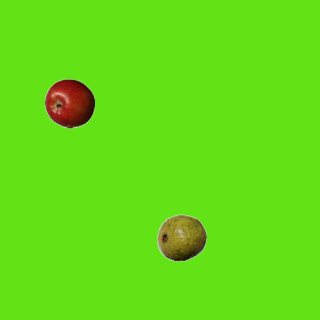Apple Braeburn: (44, 78, 94, 128)
Guava: (156, 212, 206, 262)
